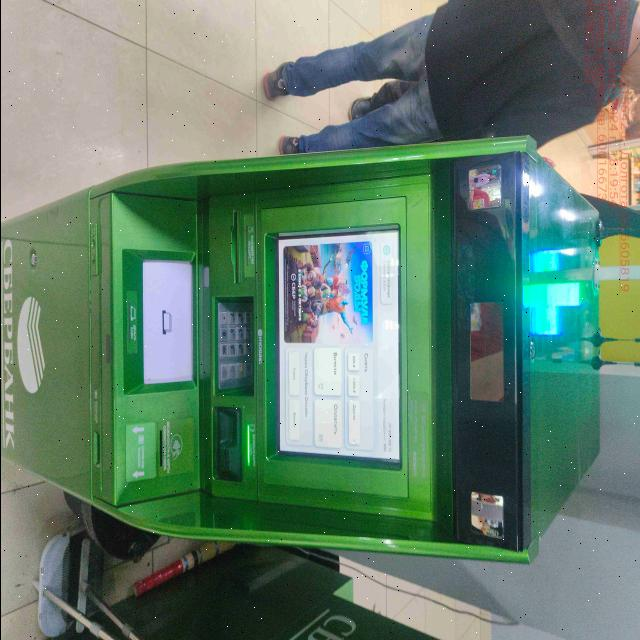bank: (0, 139, 603, 564)
